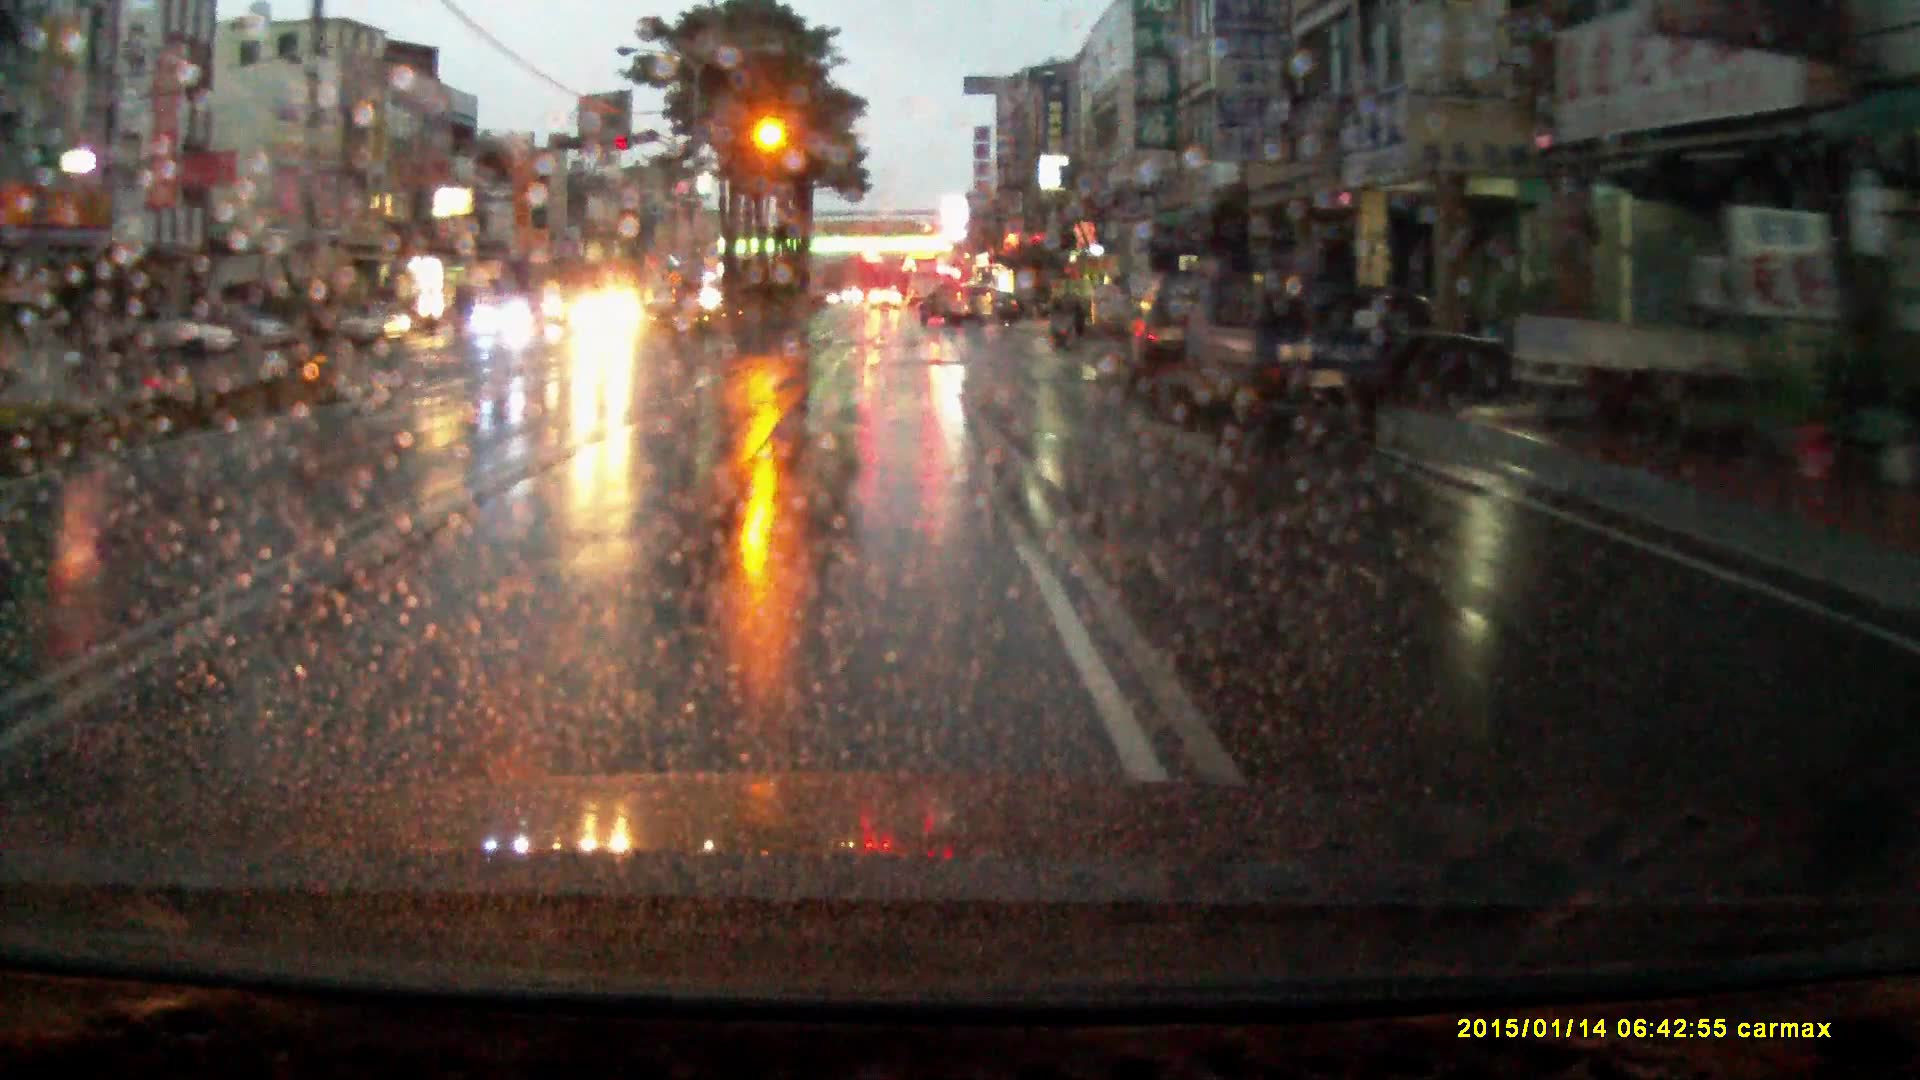vehicle: (1515, 258, 1880, 450), (1189, 248, 1390, 425), (1131, 268, 1200, 405), (117, 310, 243, 361), (568, 287, 647, 347), (342, 299, 411, 355), (920, 284, 997, 328), (475, 294, 538, 342), (222, 307, 286, 353), (909, 258, 944, 305), (868, 287, 903, 313), (992, 291, 1019, 322)
